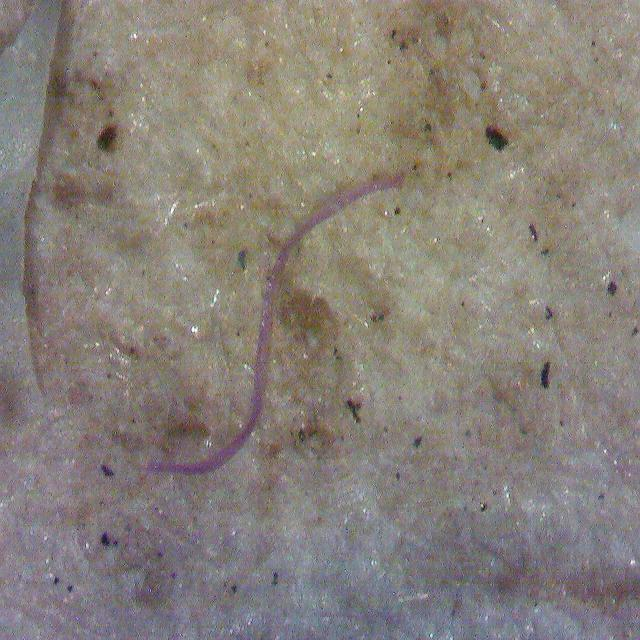microplastic: (137, 169, 406, 476)
